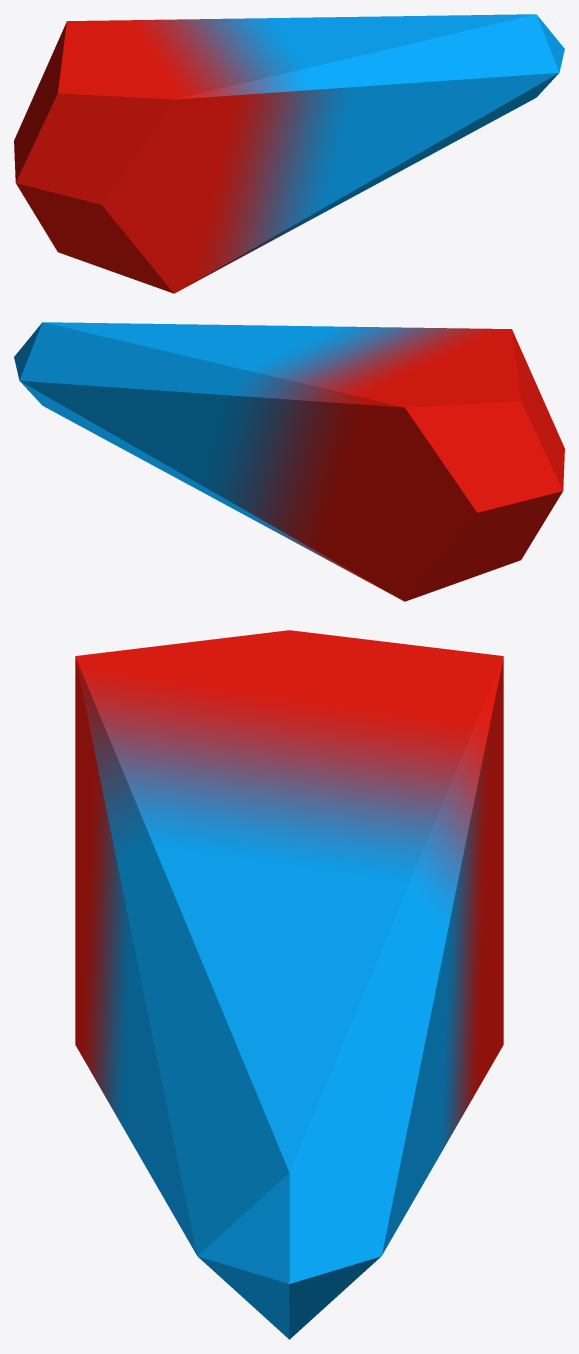
File: iceFire.obj
The picture shows the model from 3 angles, top to bottom: view 1: azimuth 30°, elevation 25°; view 2: azimuth 150°, elevation 25°; view 3: azimuth 270°, elevation 25°; orthographic projection. The views are drawn at different scales.
Parts seen in each view (by area): view 1: Circle; view 2: Circle; view 3: Circle.
Boxes of the visible parts, x1,y1,x2,y2 form: Circle: (14,14,564,293); Circle: (14,322,564,601); Circle: (75,630,503,1339).
Bounding box in the file's own units: 1.87 × 0.6328 × 0.6328.
Materials: 1 (1 with a texture image).
